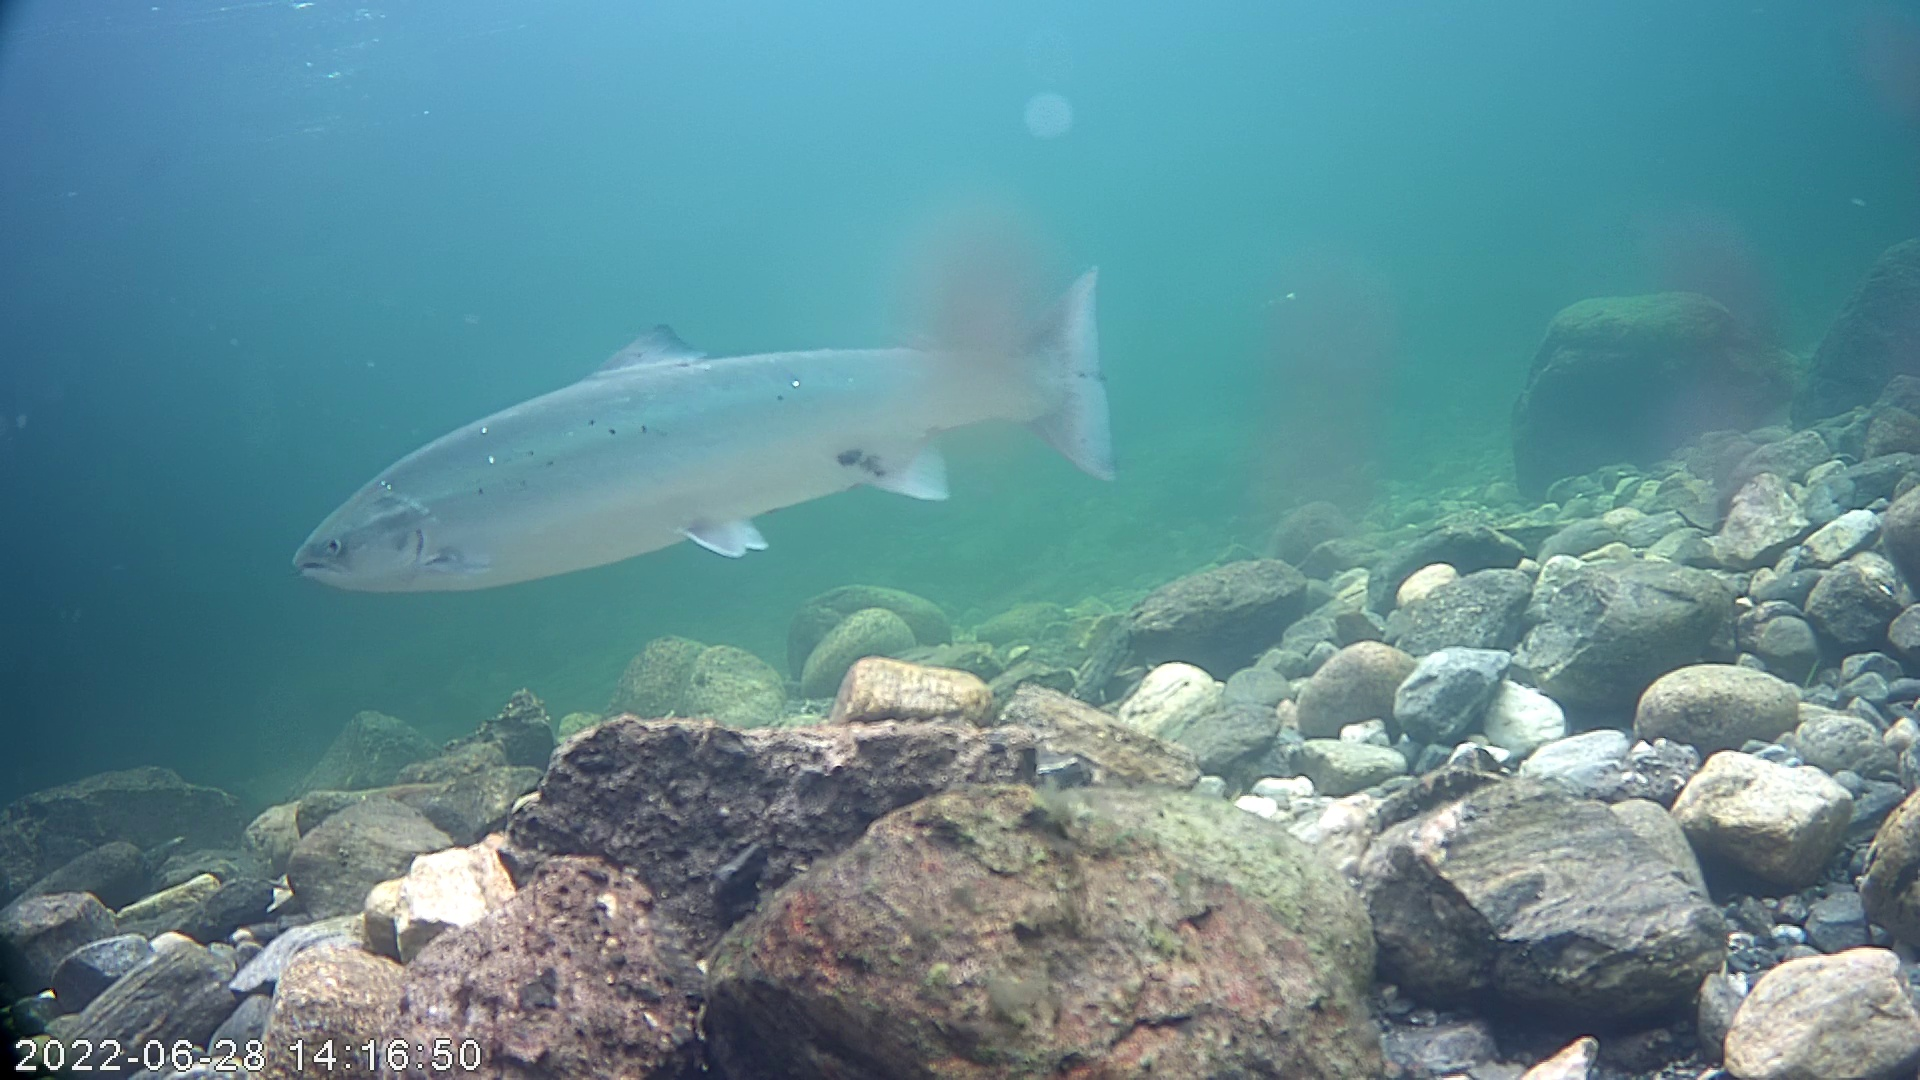salmon: (281, 208, 1137, 632)
